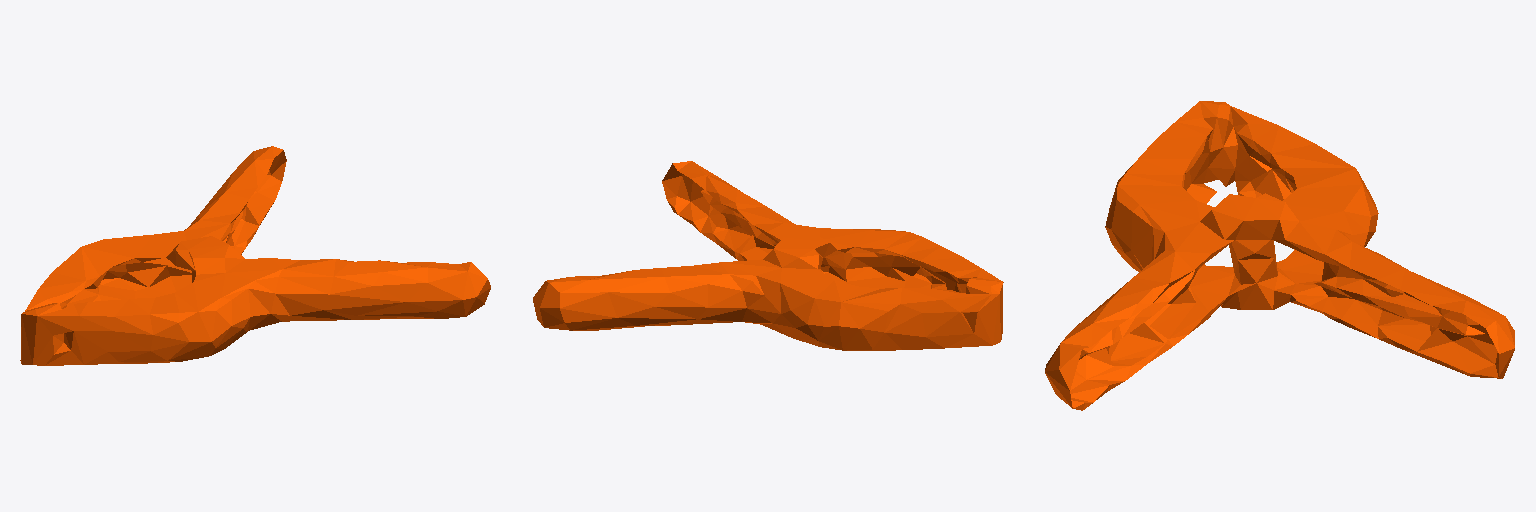
The robot description file, URDF, robot "052_extra_large_clamp":
<?xml version="1.0" ?>
<robot name="052_extra_large_clamp">
   <material name="obj_color">
      <color rgba="1.0 0.423529411765 0.0392156862745 1.0"/>
   </material>
   <link name="top">
      <inertial>
         <origin rpy="0.0003248678128806607 0.0005517433616707159 0.0008468359048608568" xyz="-0.01052673795958338 -0.001385659692281369 0.0001540956257238093"/>
         <mass value="0.2291035804273685"/>
         <inertia ixx="0.000328524884210722" ixy="-2.85608997696469e-05" ixz="1.516604868871293e-06" iyy="0.0005481060315218178" iyz="-2.048923821713402e-06" izz="0.0008468161636796937"/>
      </inertial>
      <visual>
         <origin rpy="0 0 0" xyz="0 0 0"/>
         <geometry>
            <mesh filename="top_watertight_tiny.stl" scale="1 1 1"/>
         </geometry>
         <material name="obj_color"/>
      </visual>
      <collision>
         <origin rpy="0 0 0" xyz="0 0 0"/>
         <geometry>
            <mesh filename="top_watertight_tiny.obj" scale="1 1 1"/>
         </geometry>
      </collision>
   </link>
   <link name="bottom">
      <inertial>
         <origin rpy="1.633333333199431e-08 1.633333333199431e-08 1.633333333362855e-08" xyz="0.3464080000000008 0.3464080000000008 0.3464080000000008"/>
         <mass value="0.0009800000000000017"/>
         <inertia ixx="1.633333333253906e-08" ixy="5.447480642029219e-19" ixz="5.447480642029219e-19" iyy="1.633333333253906e-08" iyz="5.447480642029219e-19" izz="1.633333333253906e-08"/>
      </inertial>
      <visual>
         <origin rpy="0 0 0" xyz="0 0 0"/>
         <geometry>
            <mesh filename="bottom_watertight_tiny.stl" scale="1 1 1"/>
         </geometry>
         <material name="obj_color"/>
      </visual>
   </link>
   <joint name="rotation" type="revolute">
      <origin xyz="0 0 0"/>
      <axis xyz="0 0 -1"/>
      <parent link="bottom"/>
      <child link="top"/>
      <dynamics damping="1.0" friction="1.0"/>
      <limit effort="0.1" velocity="0.1" lower="0" upper="0.001"/>
   </joint>
</robot>

--- What the picture shows (computed from the rendered views, not written in the file) ---
3 views of the same robot in one strip: view 1: azimuth 30°, elevation 25°; view 2: azimuth 150°, elevation 25°; view 3: azimuth 270°, elevation 25° (orthographic).
Robot: 052_extra_large_clamp — 2 links, 1 joints (1 revolute); root link bottom; default pose: every joint at zero.
Links seen in each view (by area): view 1: top; view 2: top; view 3: top.
Link boxes in pixels (x1,y1,x2,y2): top: [20, 146, 490, 365]; top: [533, 161, 1003, 350]; top: [1045, 101, 1514, 410].
Size in the robot's own frame: 0.2103 by 0.165 by 0.0358 metres.
1 mesh visuals loaded from 2 distinct referenced files (1 binary STL); not drawn: 1 (reference not matched to a file when rendering).